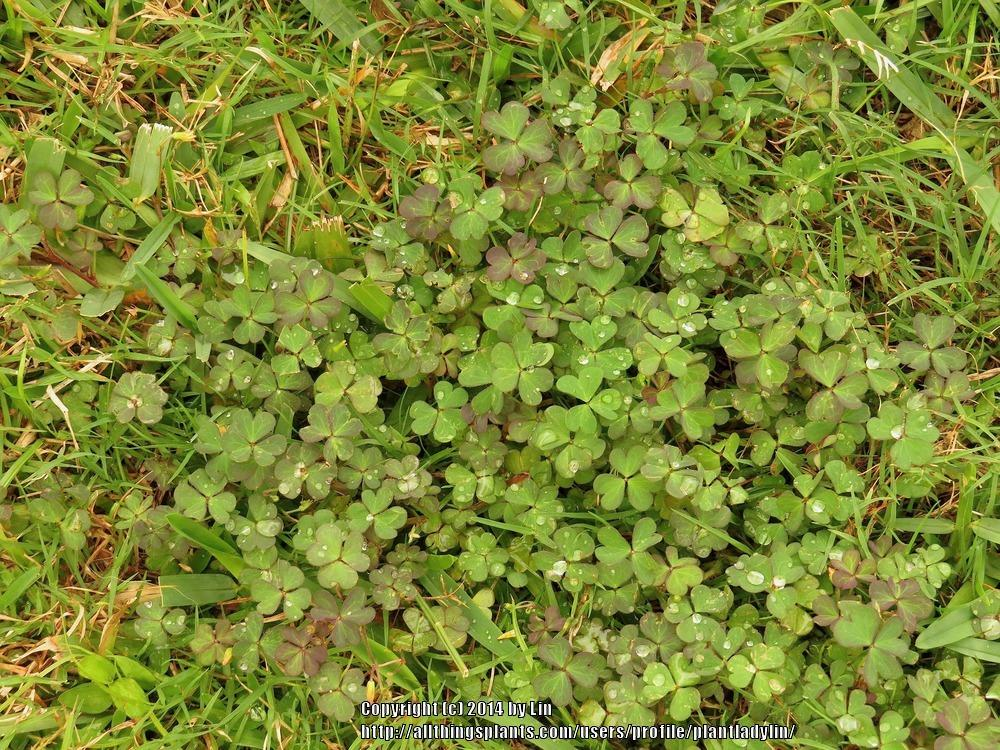oxalis: (185, 150, 935, 708)
